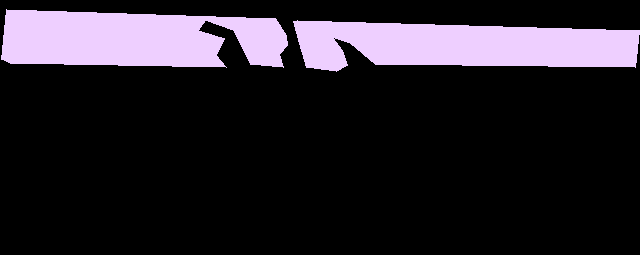Train: (1, 9, 640, 72)
